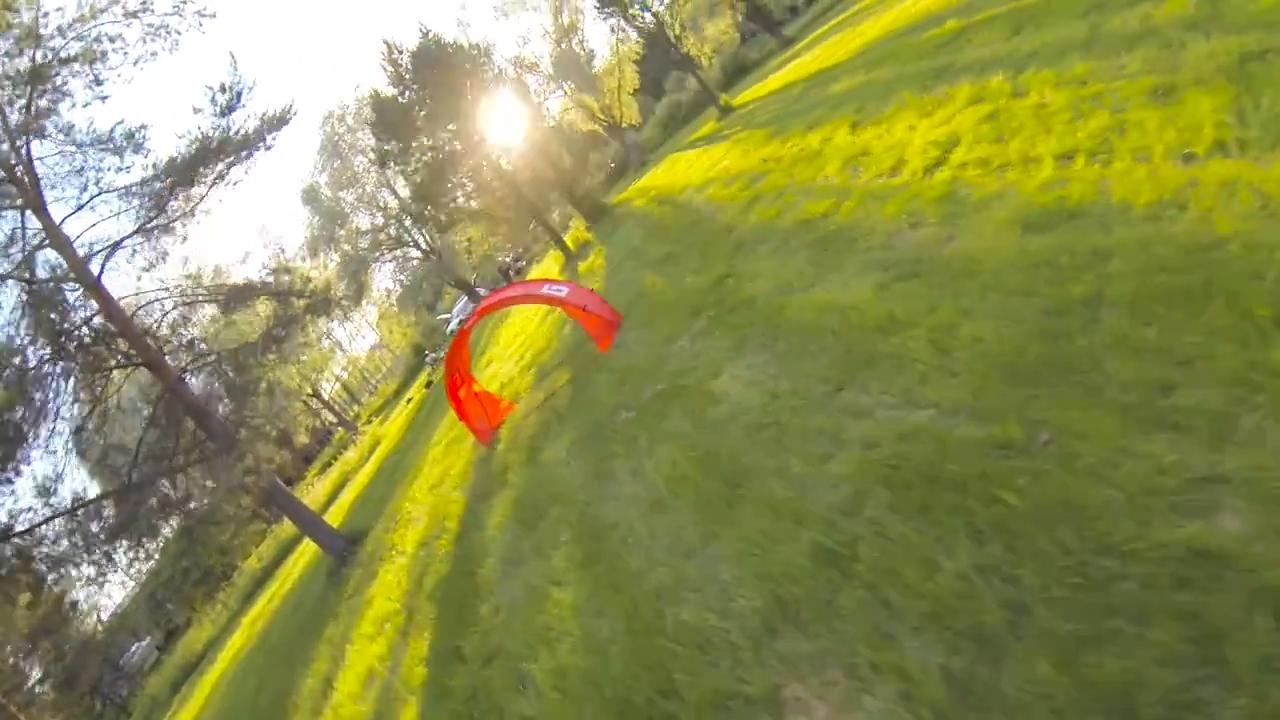gate: (438, 278, 623, 447)
